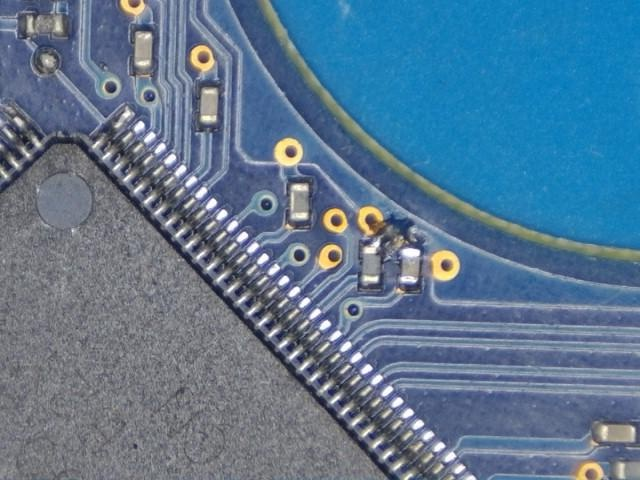pcb_defect: (365, 237, 420, 264)
